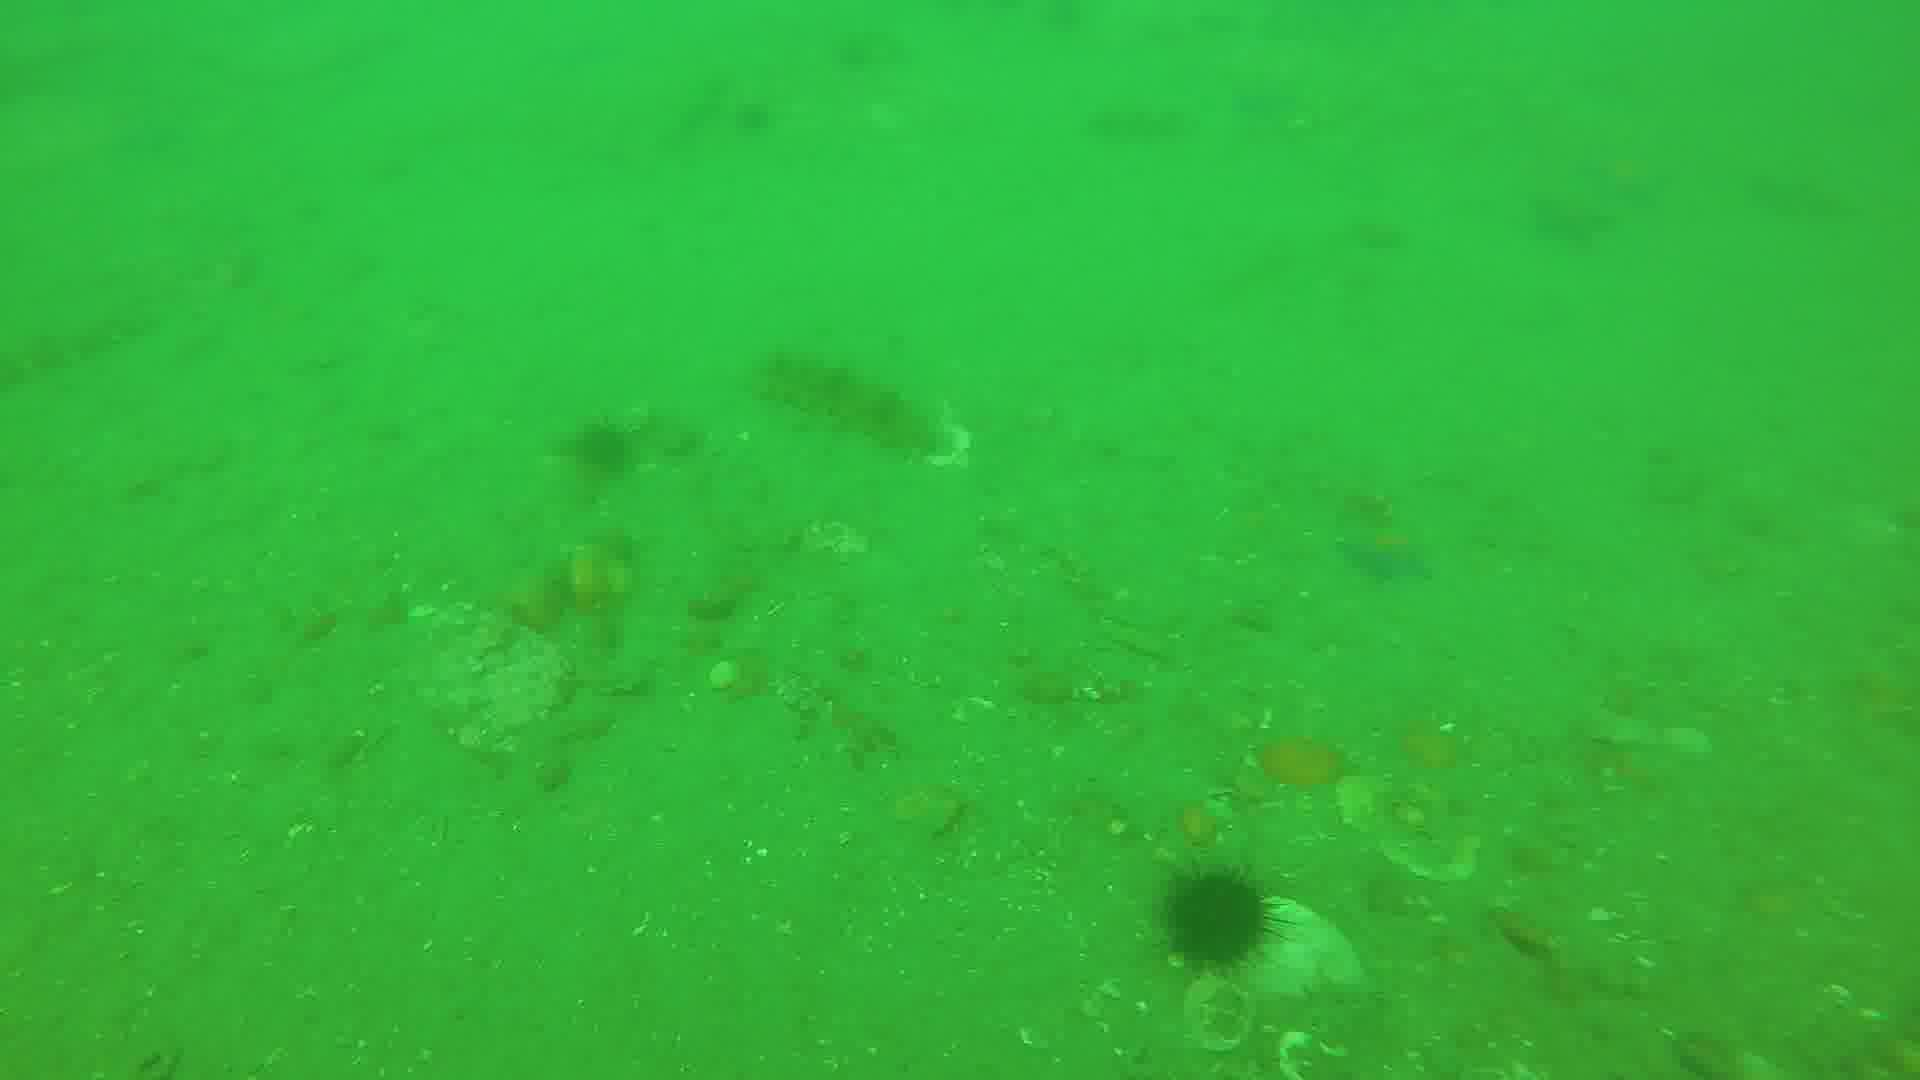echinus: (1172, 877, 1280, 963), (588, 419, 646, 485)
holothurian: (753, 357, 953, 463), (1085, 102, 1195, 150)
starfish: (1335, 512, 1441, 592), (1524, 185, 1622, 253), (1230, 71, 1323, 127)
